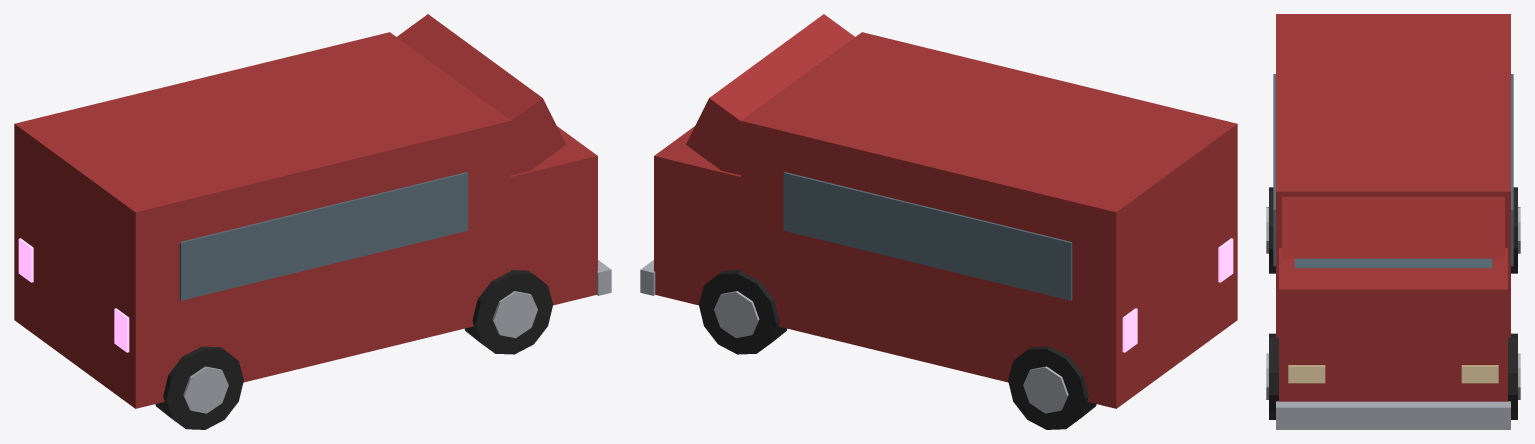
The model's file is SM_Van.fbx.
The picture shows the model from 3 angles, left to right: view 1: azimuth 30°, elevation 25°; view 2: azimuth 150°, elevation 25°; view 3: azimuth 270°, elevation 25°; orthographic projection. The views are drawn at different scales.
Visible parts, largest first — view 1: SM_Van; view 2: SM_Van; view 3: SM_Van.
Boxes of the visible parts, bbox=[...] form: SM_Van: bbox=[14, 14, 611, 429]; SM_Van: bbox=[640, 14, 1237, 429]; SM_Van: bbox=[1266, 14, 1520, 429].
Bounding box in the file's own units: 433 × 210 × 206.
